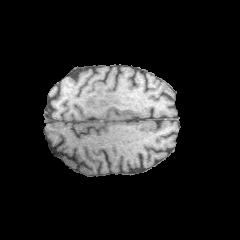glioma: (87, 90, 120, 110)
